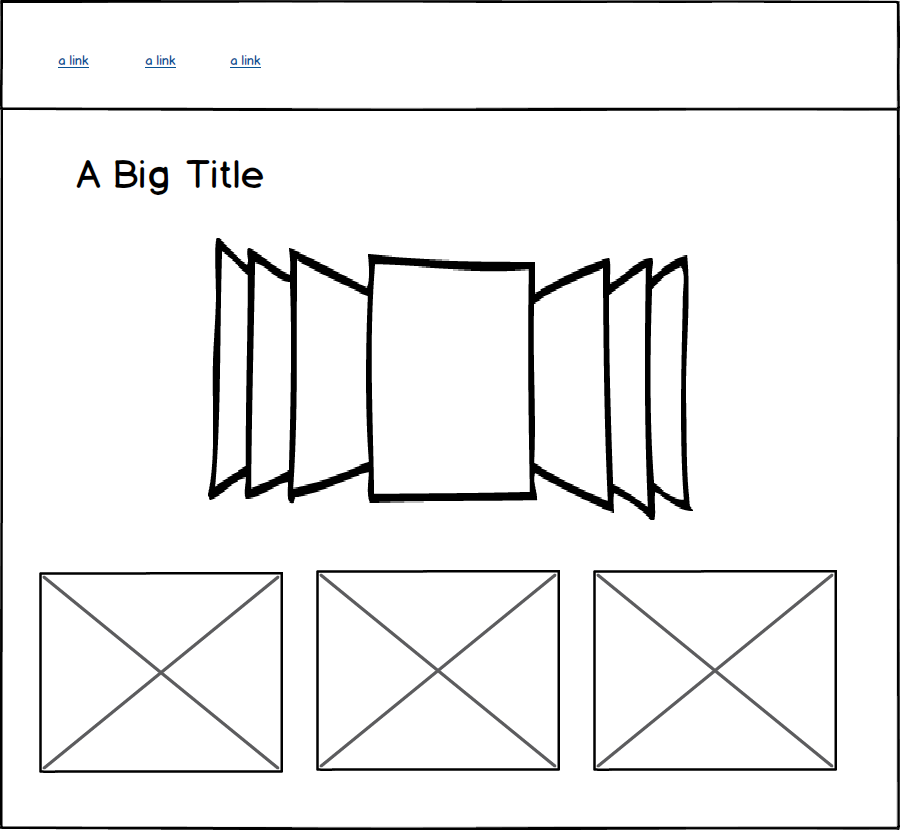h1: (63, 149, 278, 202)
image: (307, 566, 568, 777), (587, 564, 841, 778), (34, 567, 289, 778)
navlink: (223, 48, 269, 77), (137, 47, 182, 74), (55, 49, 94, 73)
slideshow: (194, 225, 708, 526)
